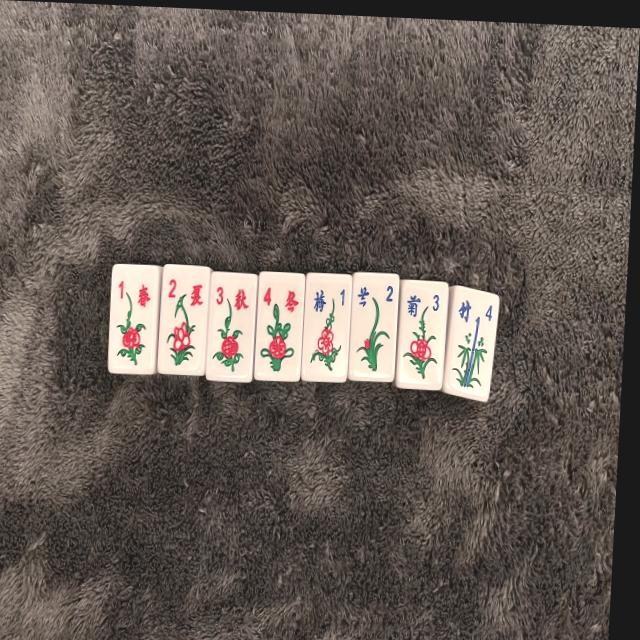f1: (303, 275, 352, 382)
f2: (349, 275, 400, 381)
f3: (397, 282, 449, 386)
f4: (445, 287, 501, 396)
ff1: (108, 266, 160, 375)
ff2: (156, 268, 211, 379)
ff3: (207, 273, 258, 384)
ff4: (253, 273, 305, 382)
